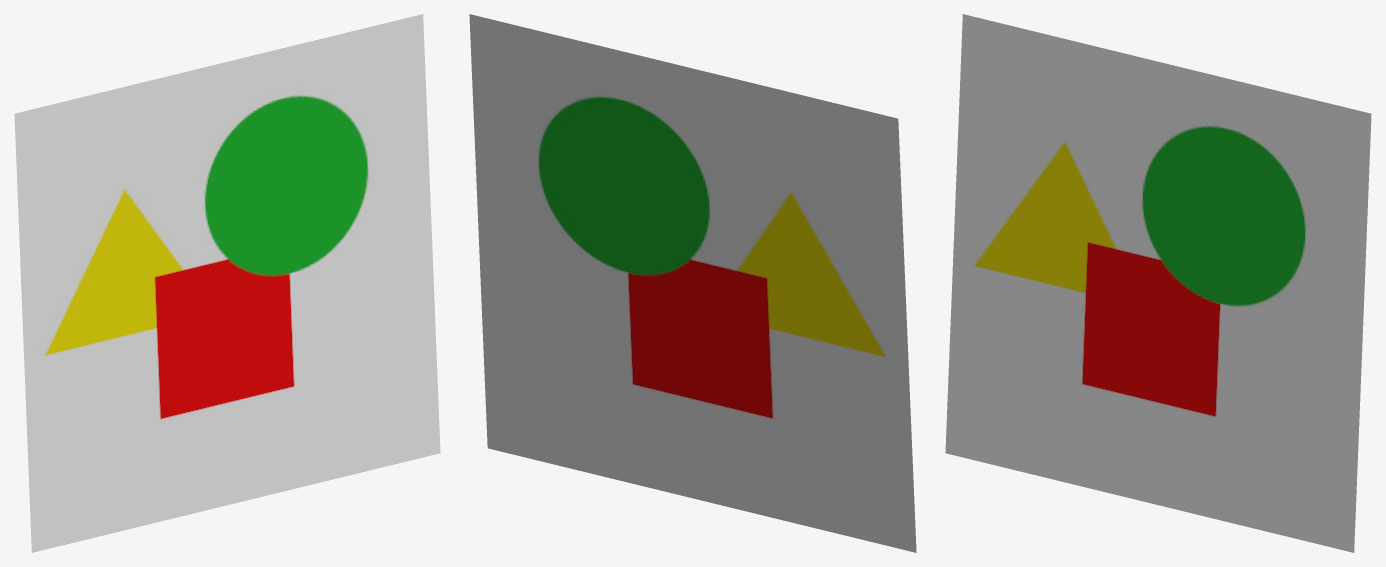
3 views of the same model, side by side, from view 1: azimuth 30°, elevation 25°; view 2: azimuth 150°, elevation 25°; view 3: azimuth 330°, elevation 25° (orthographic). The views are drawn at different scales.
Visible parts, largest first — view 1: Grid; view 2: Grid; view 3: Grid.
Boxes of the visible parts, x1,y1,x2,y2 form: Grid: (14,14,440,552); Grid: (469,14,916,552); Grid: (945,14,1371,552).
Size of the model in its own units: 2 by 1.99 by 0.1471.
Materials: 1 (1 with a texture image).
